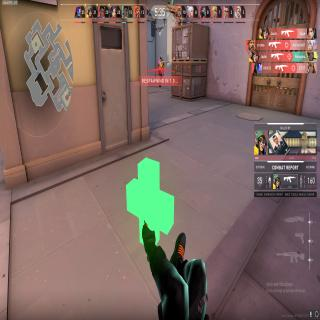ENEMY-BODY: (157, 54, 164, 88)
ENEMY-HEAD: (160, 54, 162, 61)
